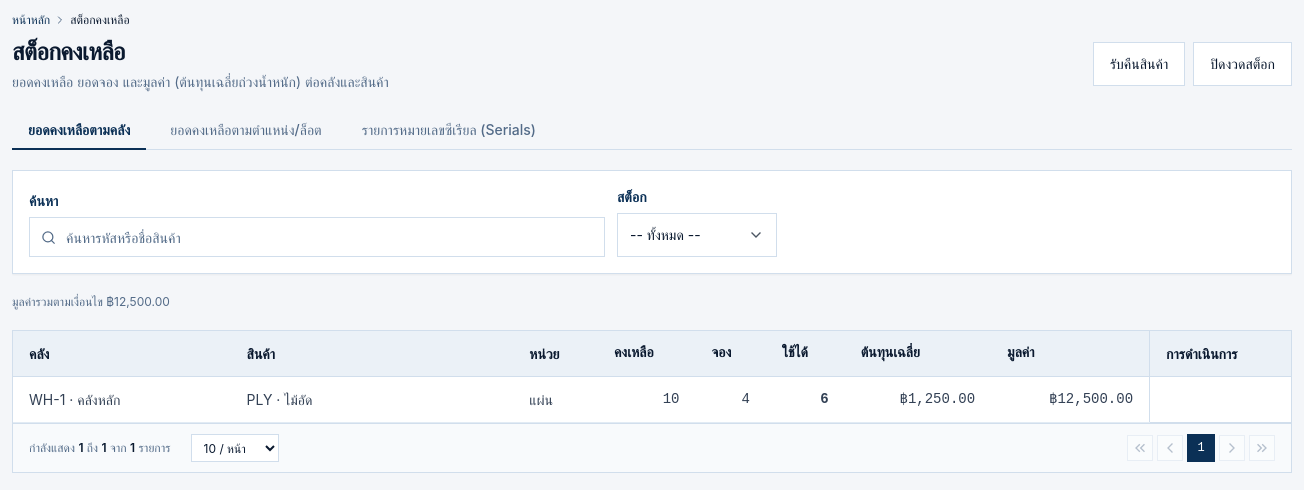
Test: StockBalanceList › switches views between warehouse, location balances and serials
The width and height of the screenshot is (1304, 490).
Expected: the button "รับคืนสินค้า" is shown, [1093,42,1185,86]
Expected: the button "ปิดงวดสต็อก" is shown, [1193,42,1292,86]
Click the button "ยอดคงเหลือตามตำแหน่ง/ล็อต" at (246, 131), box [154,112,338,150]
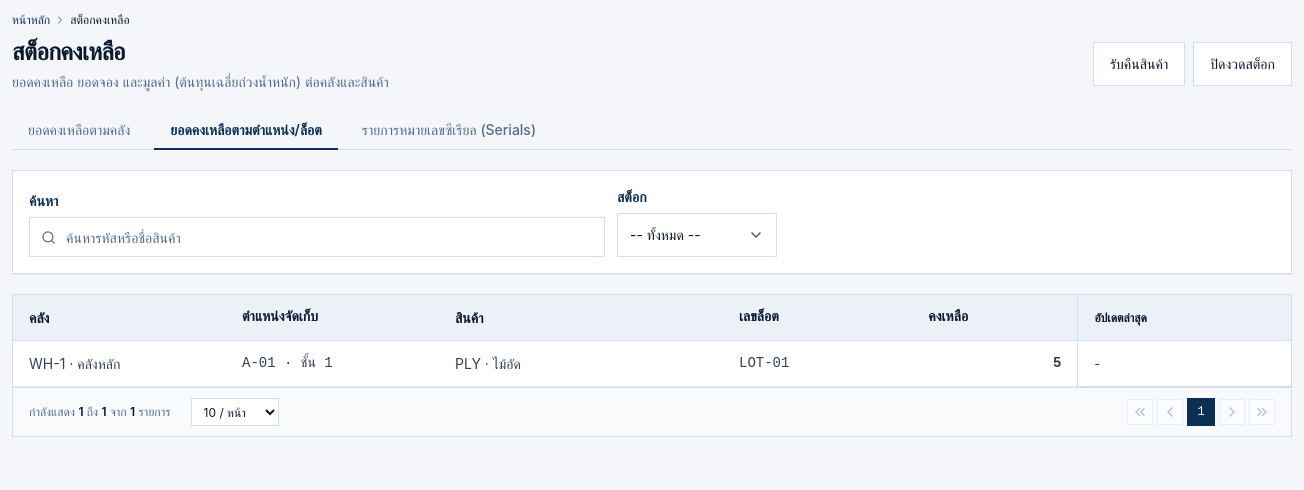
Result: the text "A-01 · ชั้น 1" is shown at [226,340,439,386]
Result: the text "LOT-01" is shown at [723,340,912,386]
Click the button "รายการหมายเลขซีเรียล (Serials)" at (449, 131), box [346,112,552,150]
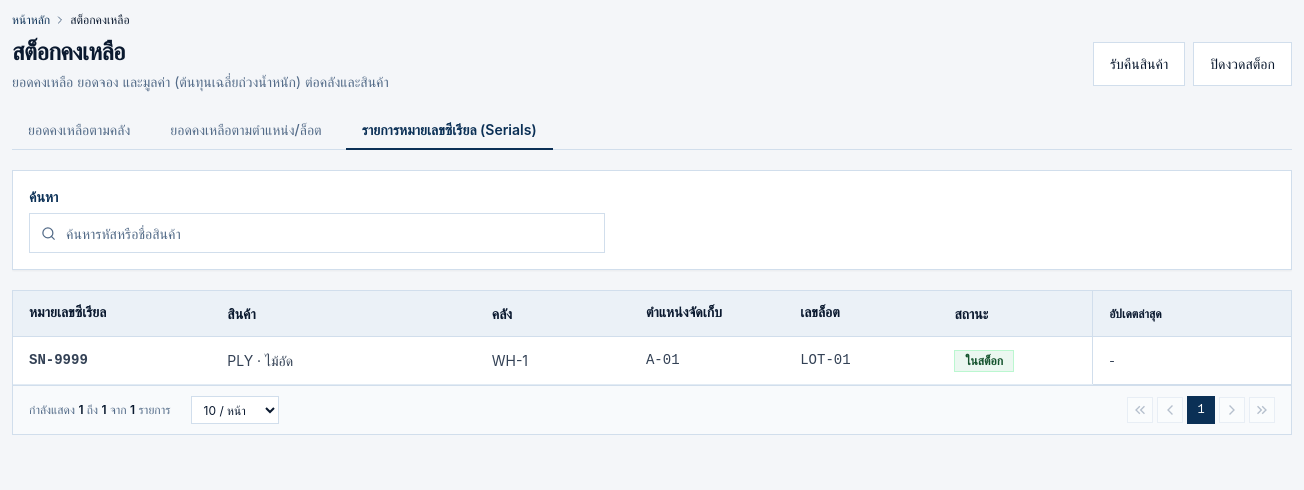
Result: the text "SN-9999" is shown at [13,336,211,384]
Result: the text "ในสต็อก" is shown at [954,350,1014,372]
